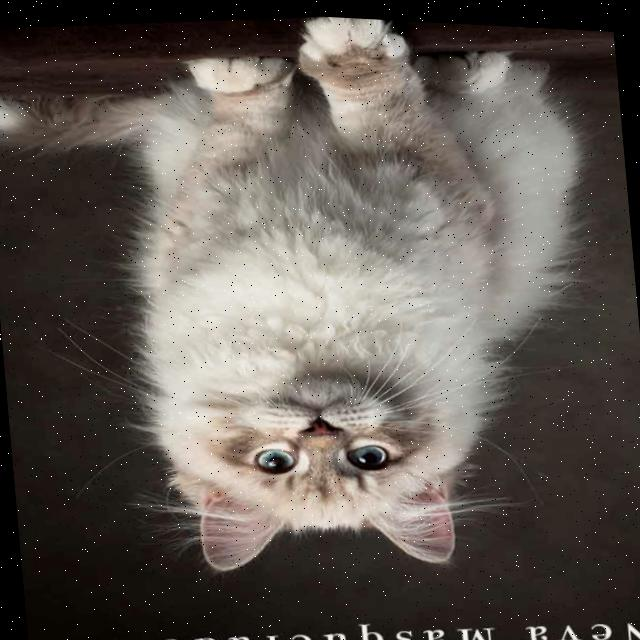Neva Masquerade: (0, 0, 622, 607)
